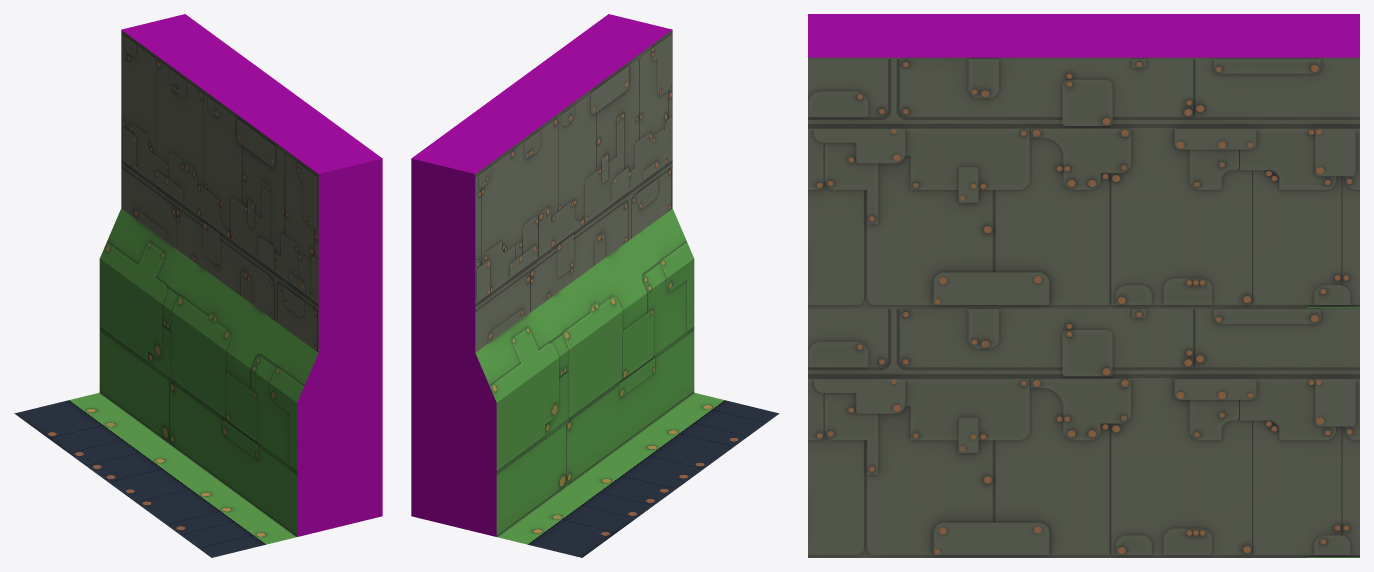
The model's file is Wall_Top.fbx.
3 views of the same model, side by side, from view 1: azimuth 30°, elevation 25°; view 2: azimuth 150°, elevation 25°; view 3: azimuth 270°, elevation 25° (orthographic). The views are drawn at different scales.
Parts seen in each view (by area): view 1: Wall_Top, Wall, Floor_Edge; view 2: Wall_Top, Wall, Floor_Edge; view 3: Wall_Top, Wall.
Part boxes in pixels (x1=…): Wall_Top: x1=121, y1=14, x2=382, y2=352; Wall: x1=99, y1=208, x2=382, y2=536; Floor_Edge: x1=14, y1=392, x2=296, y2=557; Wall_Top: x1=411, y1=14, x2=672, y2=352; Wall: x1=411, y1=208, x2=694, y2=536; Floor_Edge: x1=497, y1=392, x2=779, y2=557; Wall_Top: x1=808, y1=14, x2=1359, y2=307; Wall: x1=808, y1=308, x2=1359, y2=557.
Bounding box in the file's own units: 100 × 200 × 200.
